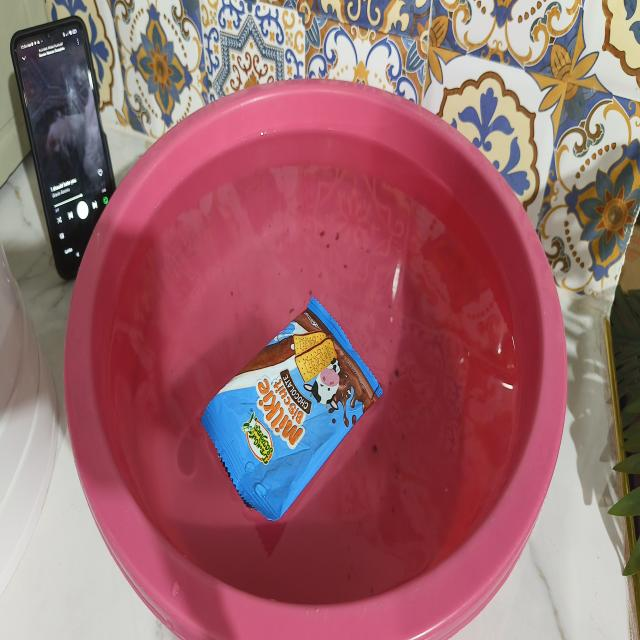Plastic Wrapper: (202, 298, 382, 520)
